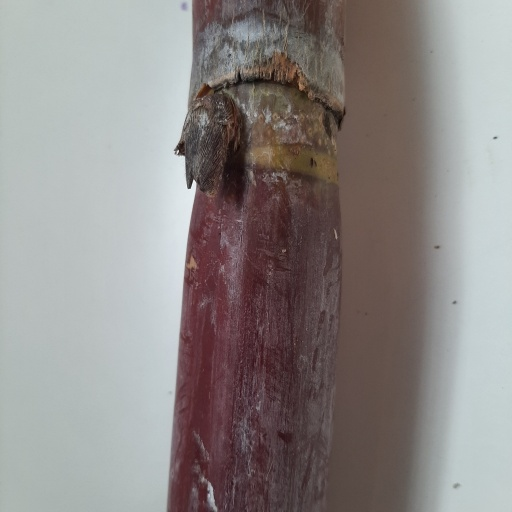Bud: (183, 94, 235, 196)
